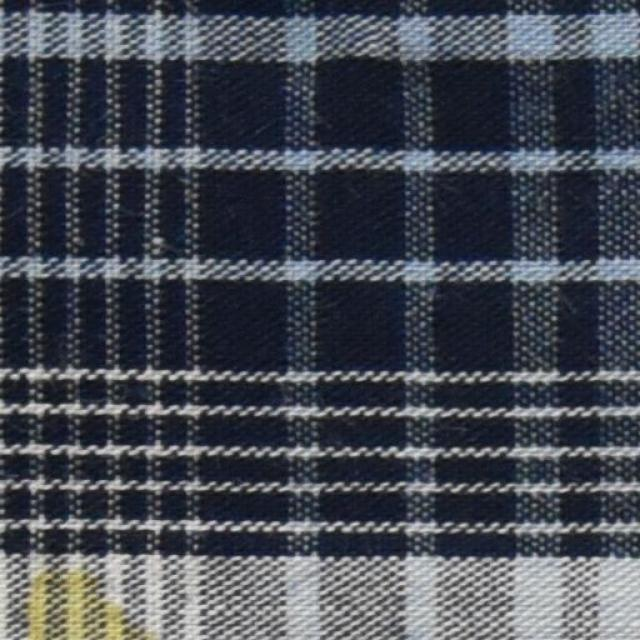Stain: (15, 552, 169, 639)
